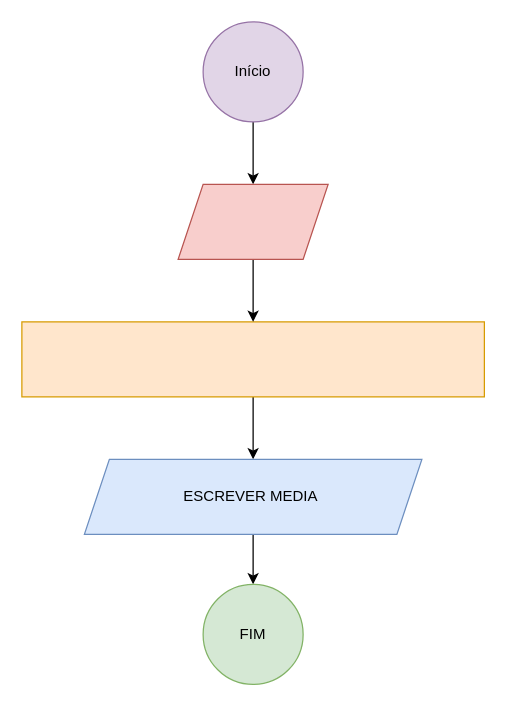
This 506x706 diagram has some shape labels left out. The shapes that lost their labels are listed below. From the top down, each one's centre as x and y in pixels, then its label:
point 252,221: LER P1,P2,P3,P4
point 252,359: MEDIA= (P1+P2+P3+P4)/4
